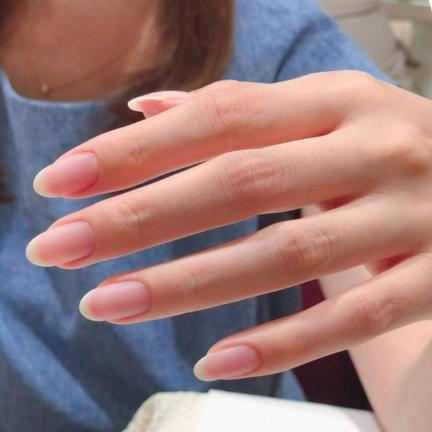Nail: (26, 221, 95, 267), (33, 152, 100, 198), (79, 280, 152, 321), (194, 345, 262, 381), (132, 91, 192, 100)
